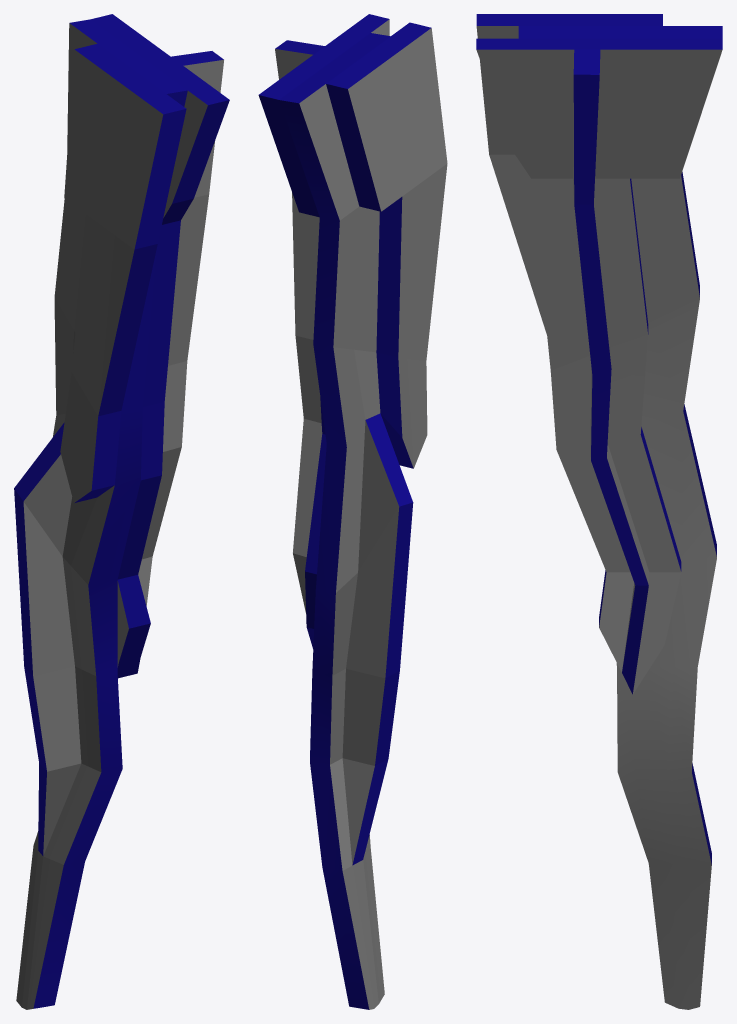
The model's file is estalactita2fixed.fbx.
The picture shows the model from 3 angles, left to right: view 1: azimuth 30°, elevation 25°; view 2: azimuth 150°, elevation 25°; view 3: azimuth 270°, elevation 25°; orthographic projection. The views are drawn at different scales.
Parts seen in each view (by area): view 1: Box002; view 2: Box002; view 3: Box002.
Boxes of the visible parts, x1,y1,x2,y2 form: Box002: [14, 14, 229, 1009]; Box002: [258, 14, 447, 1009]; Box002: [476, 14, 722, 1009].
Bounding box in the file's own units: 5.37 × 29.32 × 6.51.
